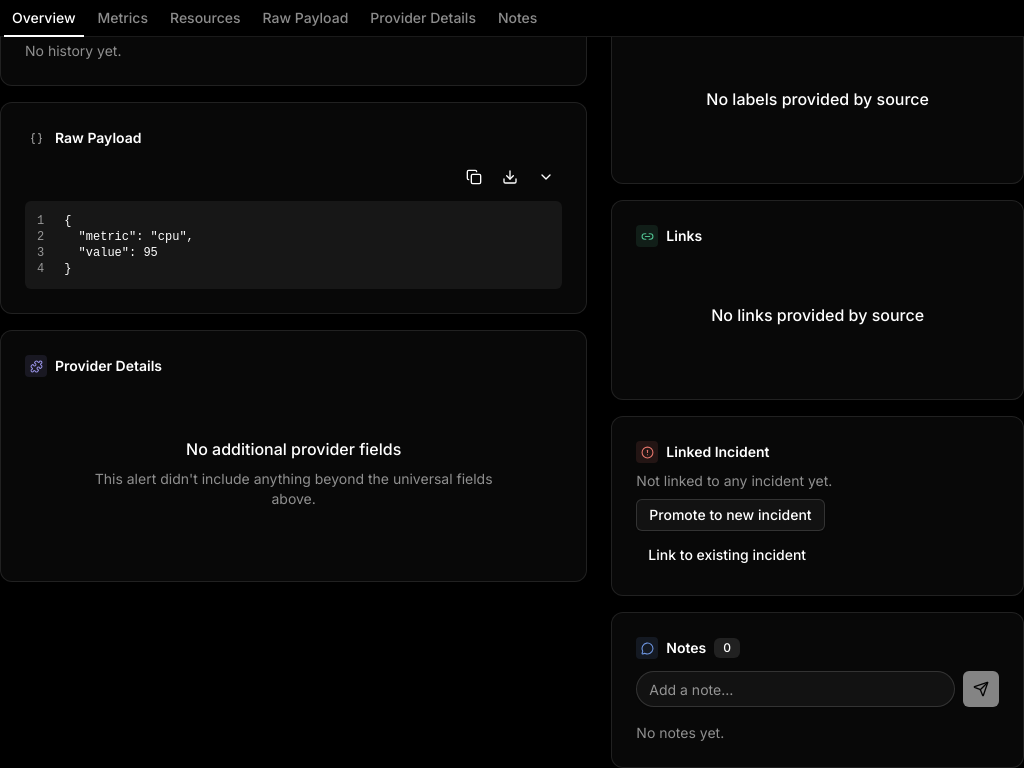
Test: AlertDetailPage — linked incident › opens the link dialog from the linked-incident panel
The width and height of the screenshot is (1024, 768).
(page scrolled)
Click the button "Link to existing incident" at (727, 555), box x1=636 y1=539 x2=818 y2=571
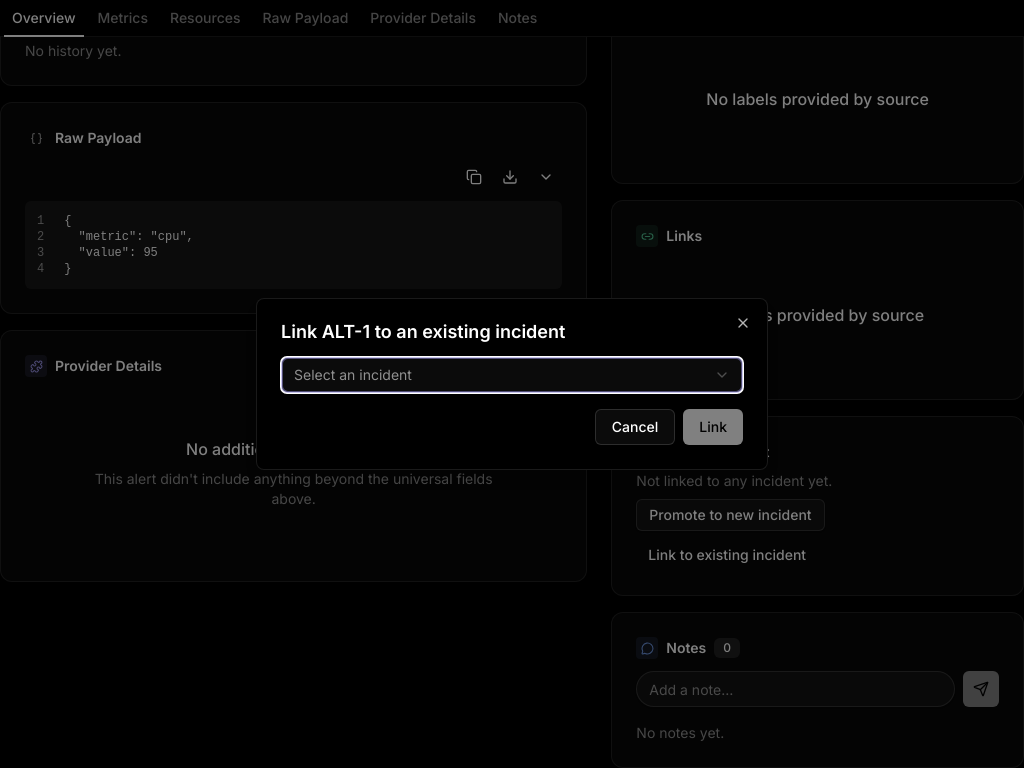
Expected: the dialog is shown, x1=256 y1=298 x2=768 y2=470
